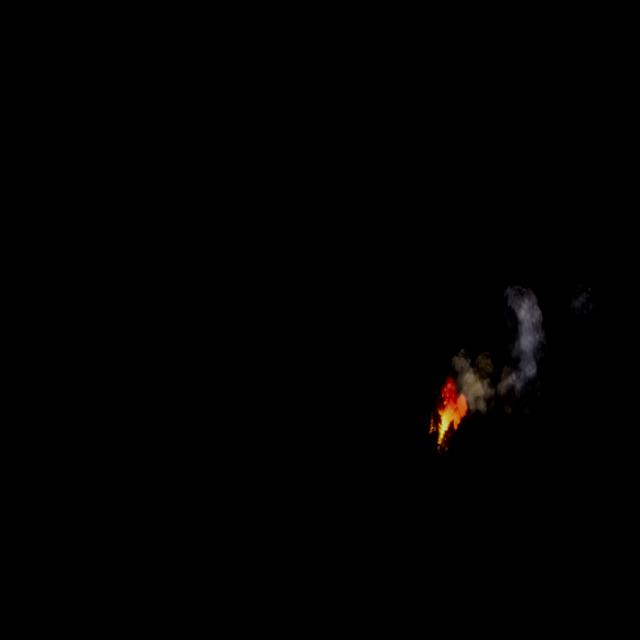fire: (426, 378, 469, 456)
smoke: (449, 275, 552, 421)
